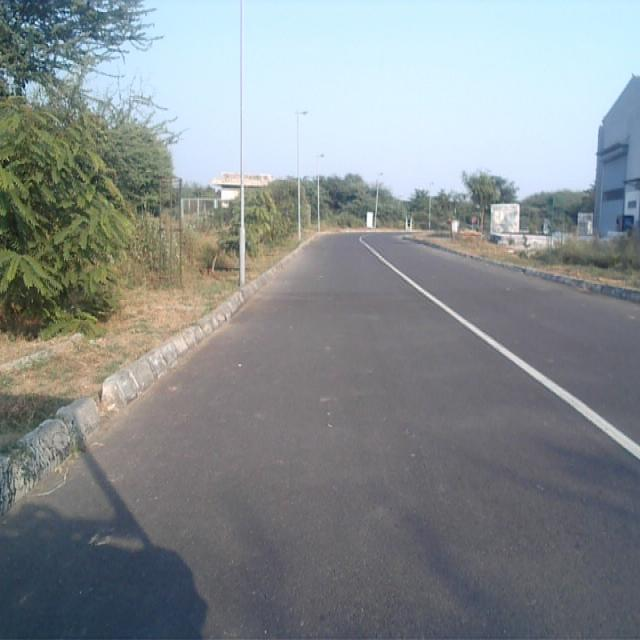lane: (0, 233, 640, 640)
